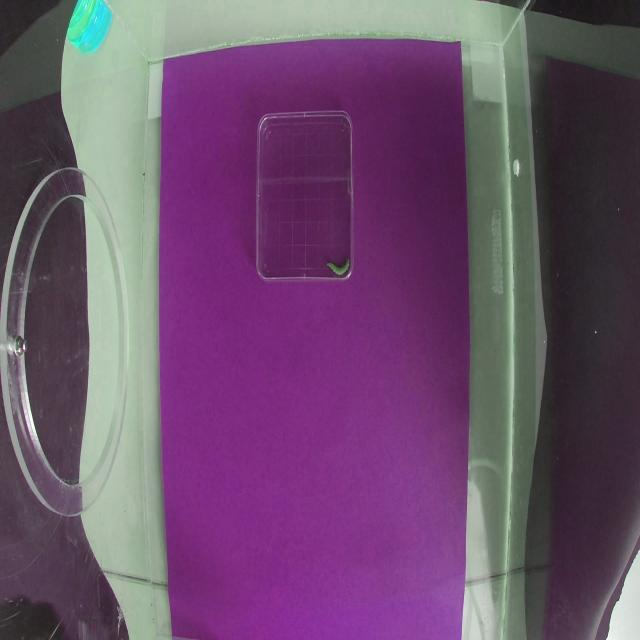larva: (326, 255, 352, 277)
